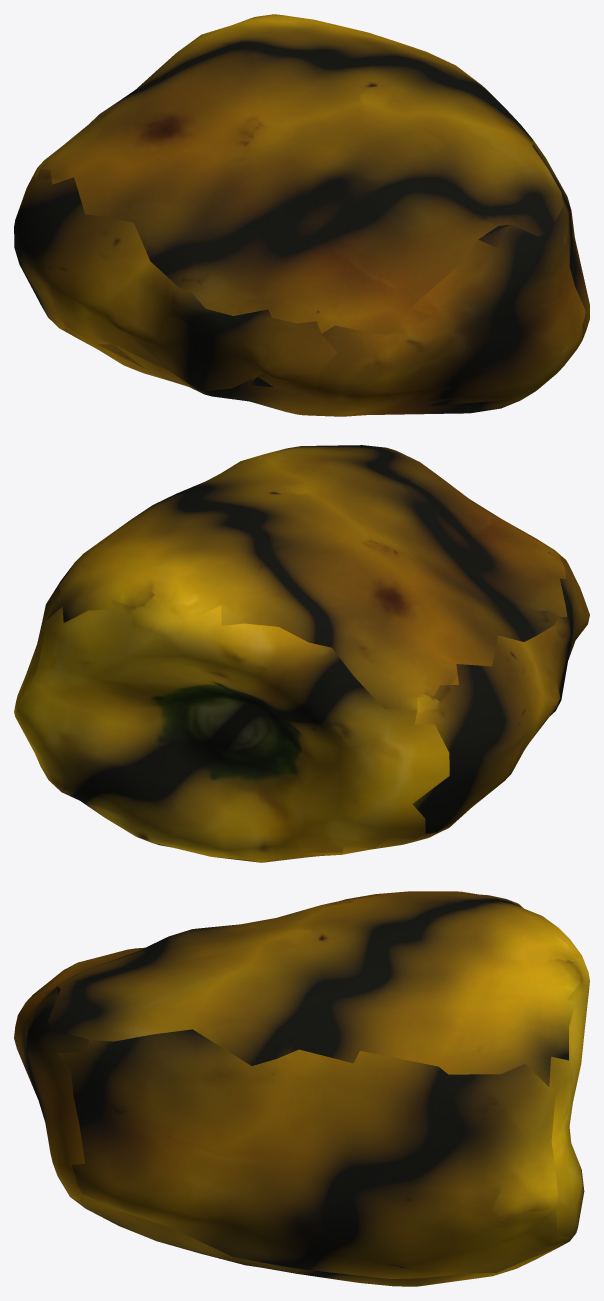
Rendered from Twisted_Squash_with_Twisted_Squash.obj.
The picture shows the model from 3 angles, top to bottom: view 1: azimuth 30°, elevation 25°; view 2: azimuth 150°, elevation 25°; view 3: azimuth 270°, elevation 25°; orthographic projection. The views are drawn at different scales.
Visible parts, largest first — view 1: Twisted_Squash_with_Twisted_Squash_carrot; view 2: Twisted_Squash_with_Twisted_Squash_carrot; view 3: Twisted_Squash_with_Twisted_Squash_carrot.
Part boxes in pixels (x1,y1,x2,y2): Twisted_Squash_with_Twisted_Squash_carrot: (14, 14, 589, 416); Twisted_Squash_with_Twisted_Squash_carrot: (14, 445, 589, 862); Twisted_Squash_with_Twisted_Squash_carrot: (14, 891, 589, 1286).
Size of the model in its own units: 1.18 by 0.7704 by 1.23.
2 materials, 2 textured.
